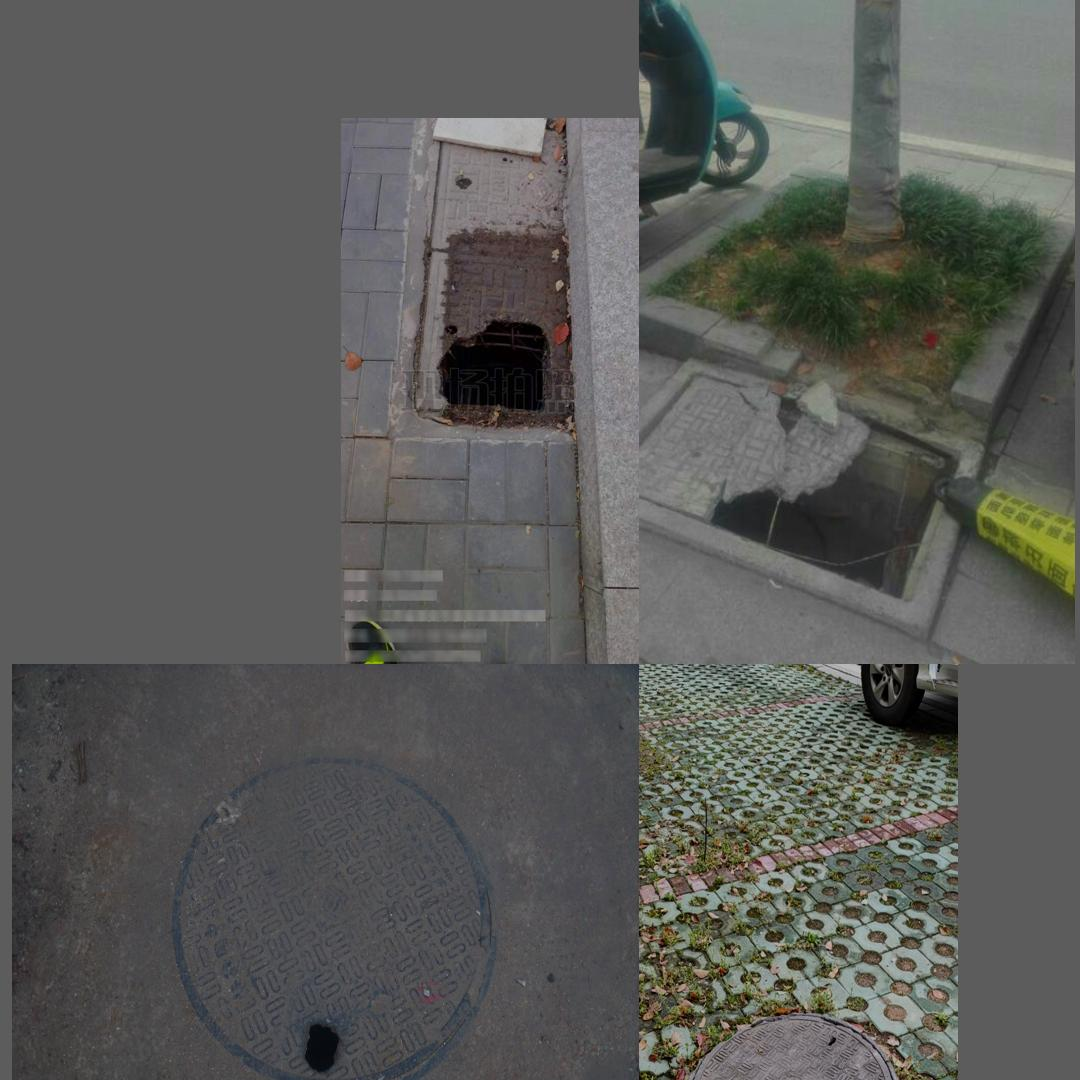broke: (168, 754, 494, 1080), (640, 370, 959, 603), (419, 188, 592, 433), (681, 1009, 904, 1080)
